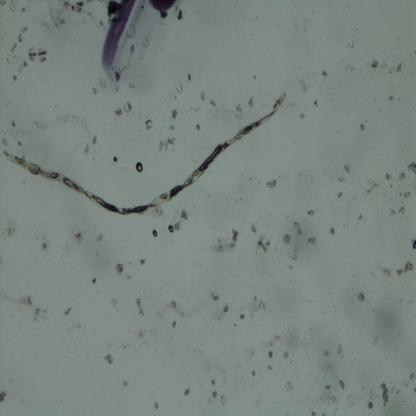Air bubble: (136, 161, 143, 173), (152, 228, 158, 238), (168, 224, 174, 233)
Background material: (370, 294, 406, 342), (212, 227, 240, 254), (43, 8, 71, 32), (319, 343, 338, 378), (0, 213, 21, 242), (294, 71, 311, 96), (312, 394, 342, 408), (12, 292, 34, 309), (284, 248, 300, 269), (250, 298, 268, 316), (380, 382, 392, 408), (169, 300, 186, 318), (158, 137, 176, 154), (397, 260, 414, 278), (342, 35, 358, 53), (33, 306, 49, 324), (365, 174, 377, 198), (258, 233, 271, 253), (113, 260, 126, 278), (379, 267, 395, 280), (135, 298, 146, 316), (292, 219, 303, 236), (71, 0, 85, 13), (264, 178, 279, 190), (208, 288, 220, 302), (264, 337, 276, 351), (370, 335, 382, 348), (17, 60, 28, 74), (335, 341, 345, 356), (283, 379, 294, 392), (104, 352, 114, 366), (28, 48, 38, 62), (282, 231, 292, 245), (356, 291, 366, 305), (38, 48, 48, 62), (74, 230, 84, 244), (174, 81, 184, 95), (369, 56, 379, 70), (264, 360, 274, 373), (407, 160, 416, 174), (307, 235, 318, 246), (355, 209, 365, 221), (170, 108, 180, 120), (144, 118, 154, 130), (0, 387, 7, 403), (124, 101, 132, 115), (249, 223, 259, 234), (169, 320, 178, 332), (219, 392, 227, 405), (90, 132, 98, 145), (234, 101, 242, 114), (324, 384, 334, 394), (7, 3, 16, 14), (109, 296, 118, 307), (250, 366, 257, 380), (388, 207, 396, 219), (338, 378, 346, 390), (396, 62, 404, 74), (63, 306, 73, 315), (402, 190, 412, 199), (337, 175, 347, 184), (222, 304, 230, 315), (267, 349, 275, 360), (180, 209, 188, 220), (174, 222, 182, 233), (176, 10, 183, 22), (10, 42, 17, 54), (344, 162, 351, 174), (385, 170, 392, 182), (20, 25, 29, 34), (183, 388, 191, 398), (194, 122, 202, 132), (83, 144, 91, 154), (398, 172, 406, 182), (408, 372, 414, 385), (410, 238, 416, 251), (199, 91, 206, 102), (336, 189, 343, 200), (238, 313, 246, 322), (41, 242, 49, 251), (114, 108, 123, 116), (297, 112, 306, 120), (283, 350, 290, 360), (209, 378, 216, 388), (399, 206, 406, 216), (186, 73, 193, 83), (322, 69, 329, 79), (248, 97, 255, 107), (90, 276, 98, 284), (366, 402, 374, 410), (307, 210, 315, 218), (250, 73, 257, 82), (140, 257, 147, 266), (312, 98, 318, 108), (330, 226, 336, 236), (212, 390, 219, 398), (92, 86, 99, 94), (154, 401, 159, 411), (388, 94, 394, 102), (360, 124, 366, 132), (0, 138, 6, 146), (169, 124, 175, 132), (17, 140, 23, 147), (17, 35, 23, 42), (12, 74, 17, 82), (310, 410, 316, 416), (10, 122, 17, 127), (113, 157, 118, 162)
Cotton: (5, 91, 286, 216)
Pen: (99, 1, 178, 77)
